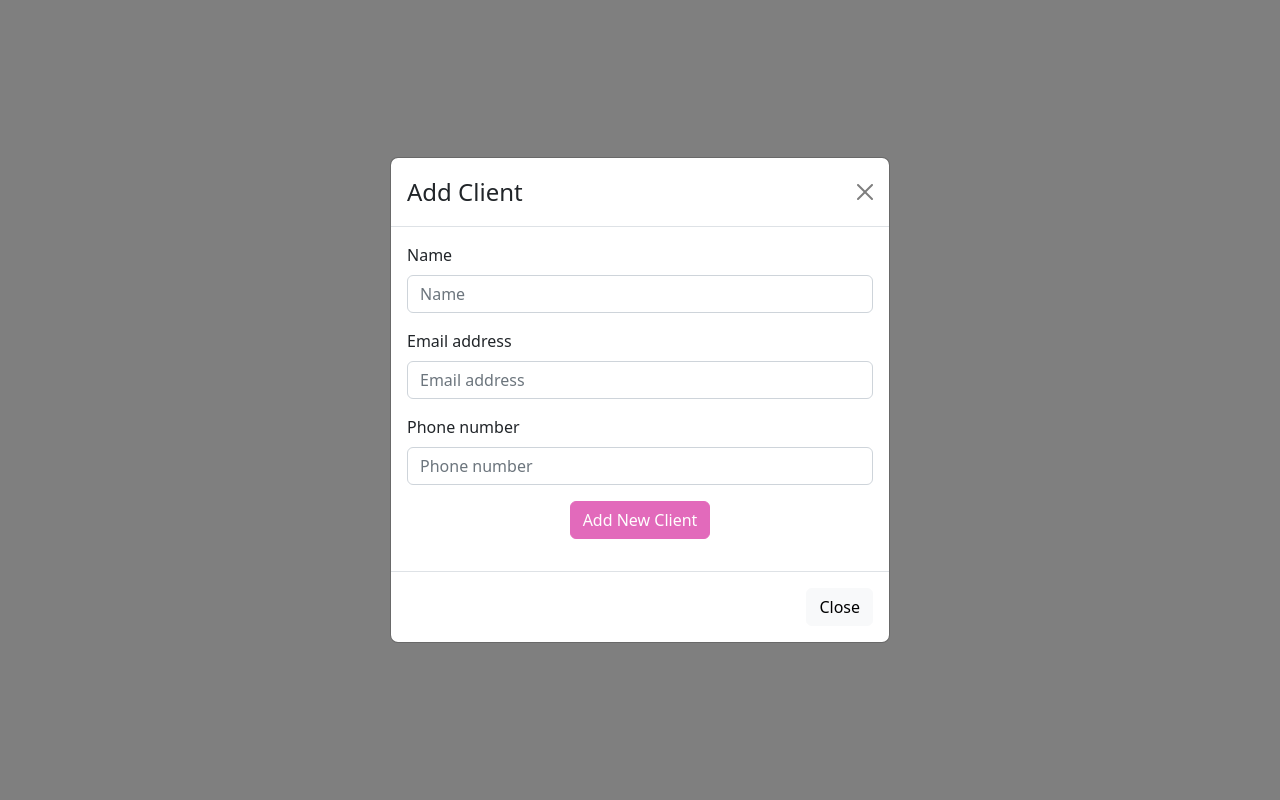
Test: AddClient component › Should show error while user inputs wrong data
Type "ab" into the field labelled "Name" at (640, 294), box [407,275,873,313]
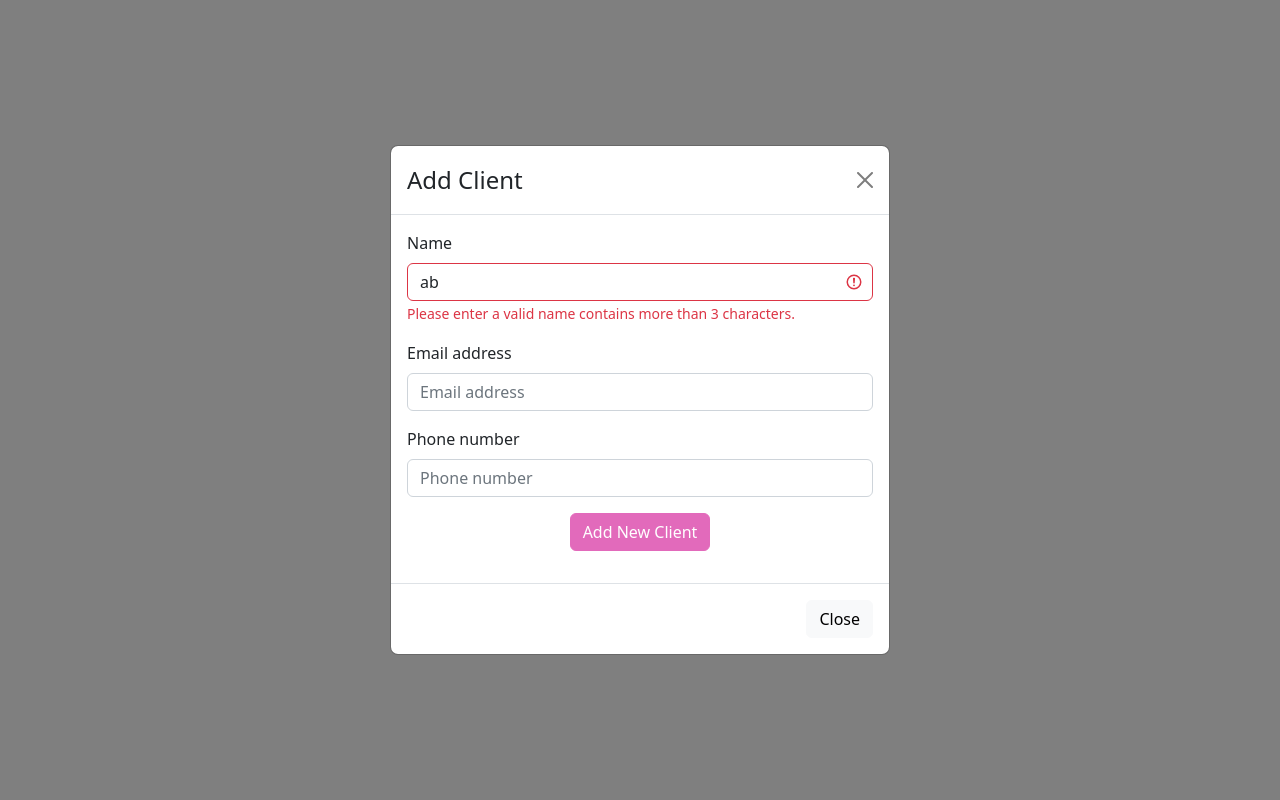
Type "john.doe" into the field labelled "Email address" at (640, 392), box [407,373,873,411]
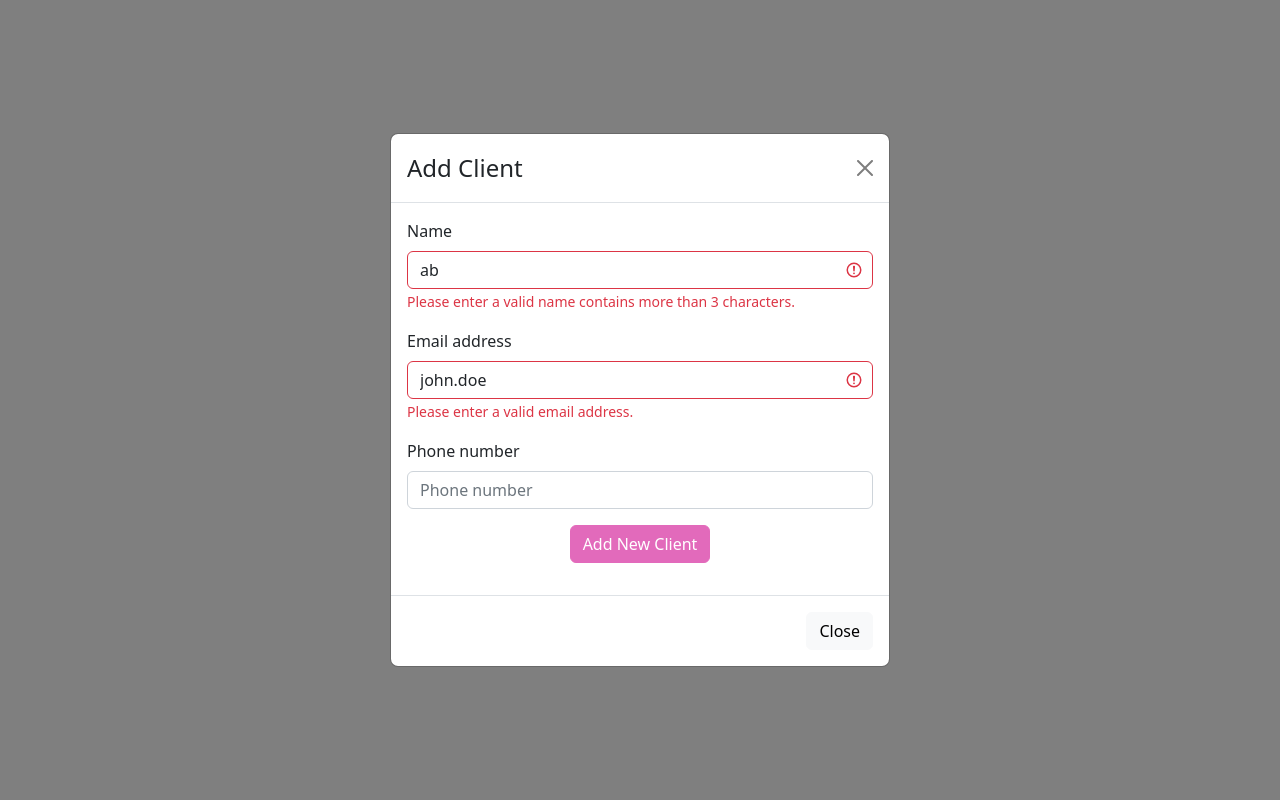
Type "12" into the field labelled "Phone number" at (640, 490), box [407,471,873,509]
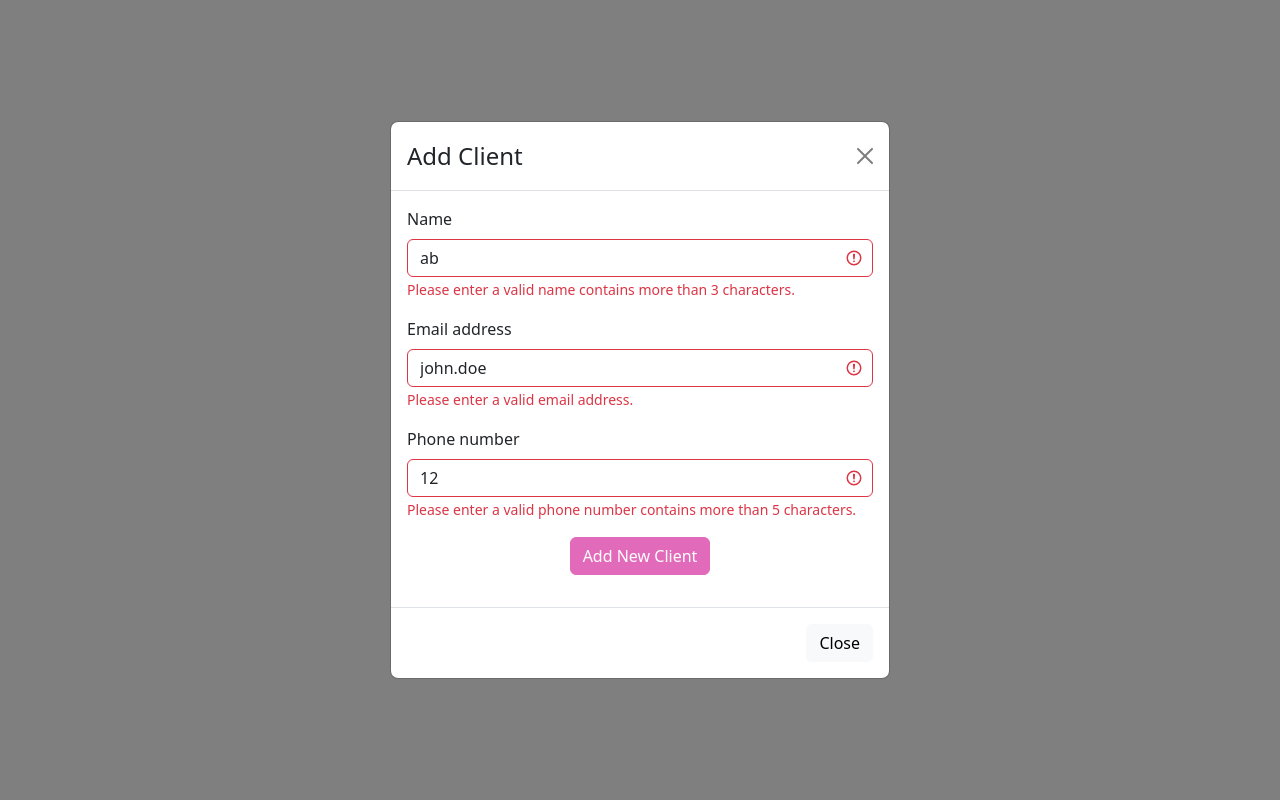
Expected: the text "Please enter a valid name contains more than 3 characters." is shown, [407,280,795,299]
Expected: the text "Please enter a valid email address." is shown, [407,390,633,409]
Expected: the text "Please enter a valid phone number contains more than 5 characters." is shown, [407,500,856,519]
